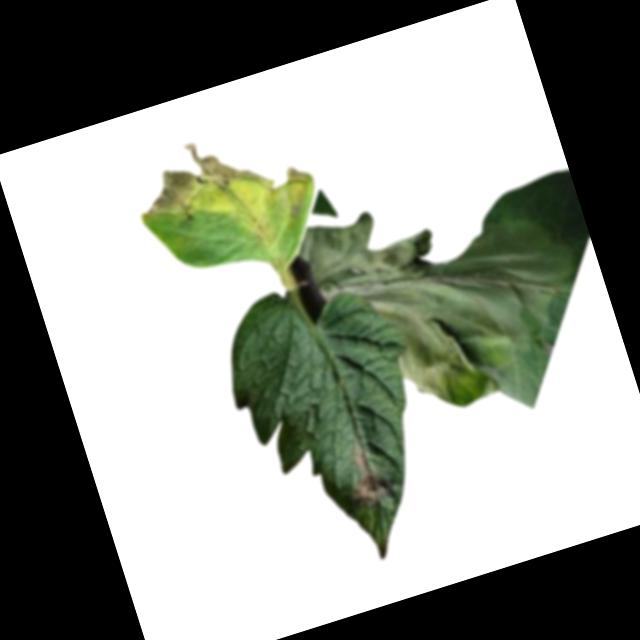Late_blight: (302, 158, 608, 429), (130, 113, 319, 277), (340, 438, 397, 514)
